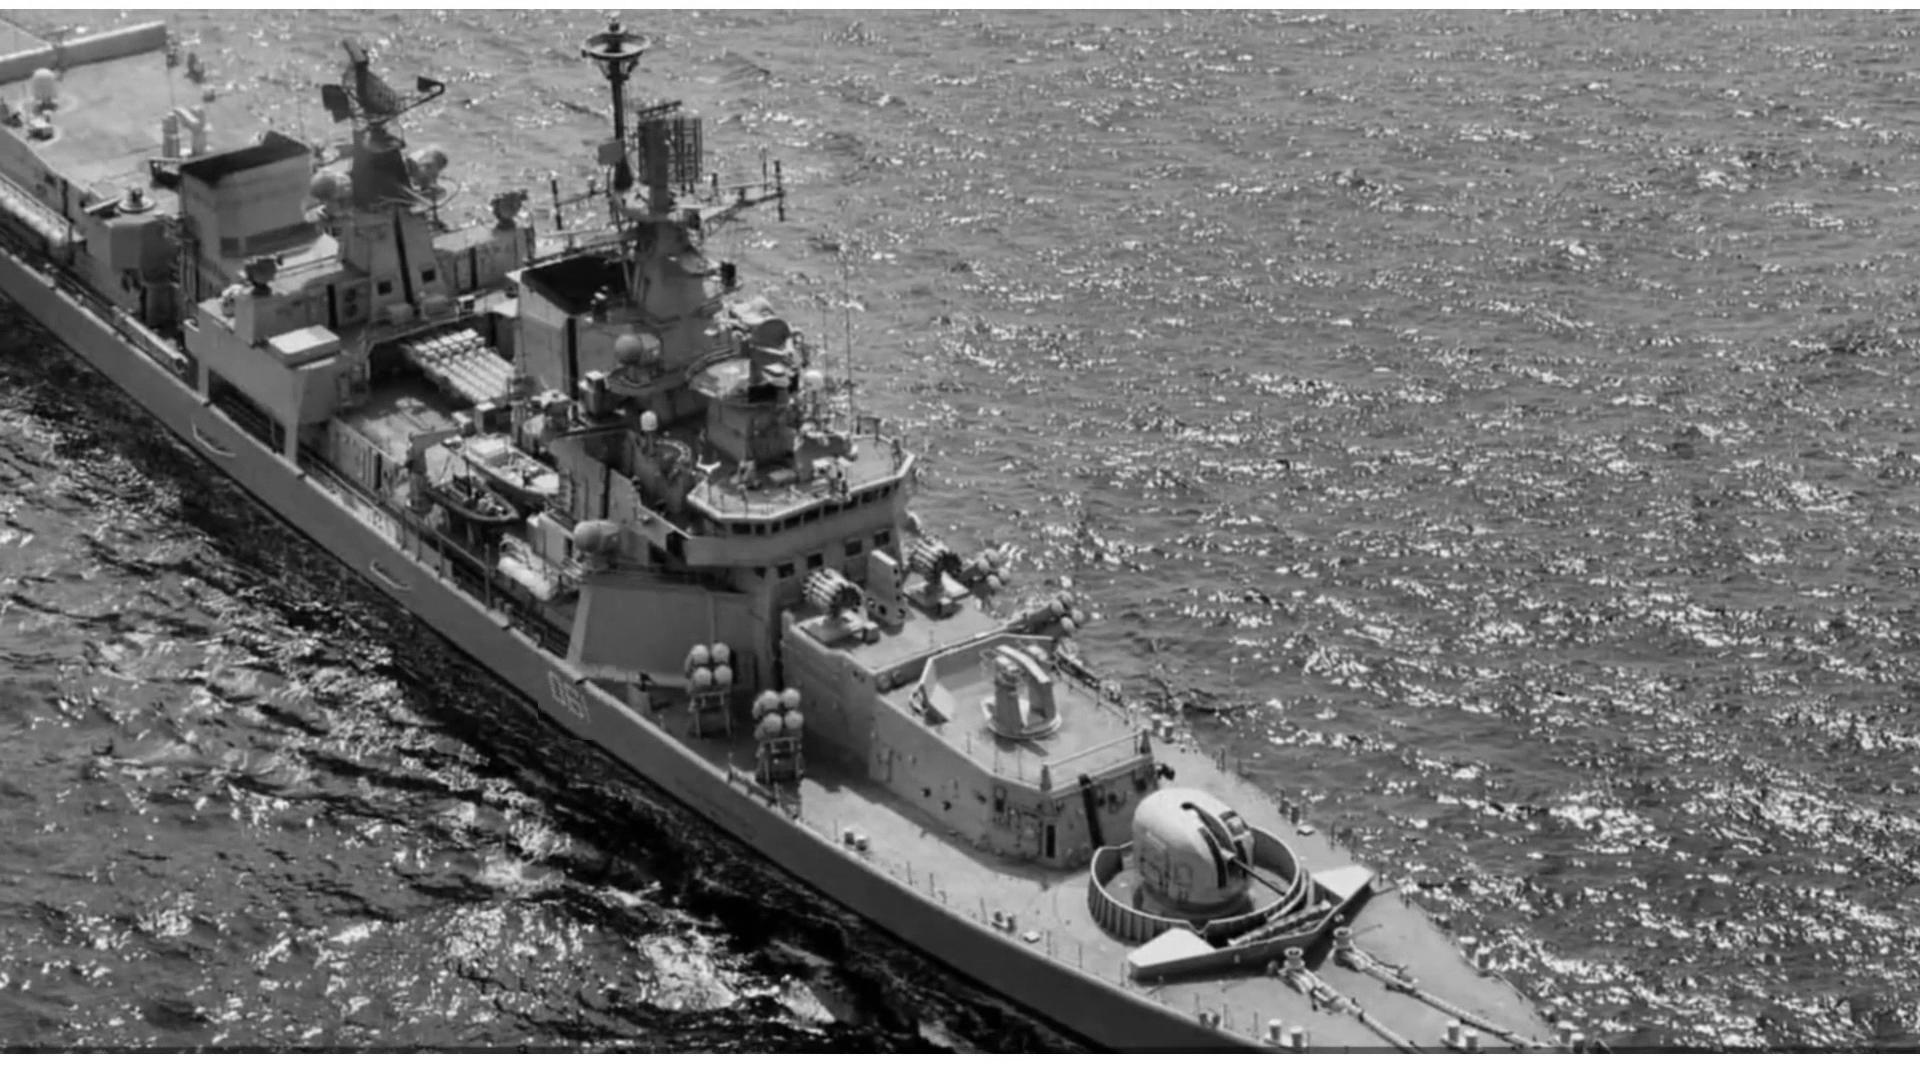OCR: (538, 660, 618, 742)
